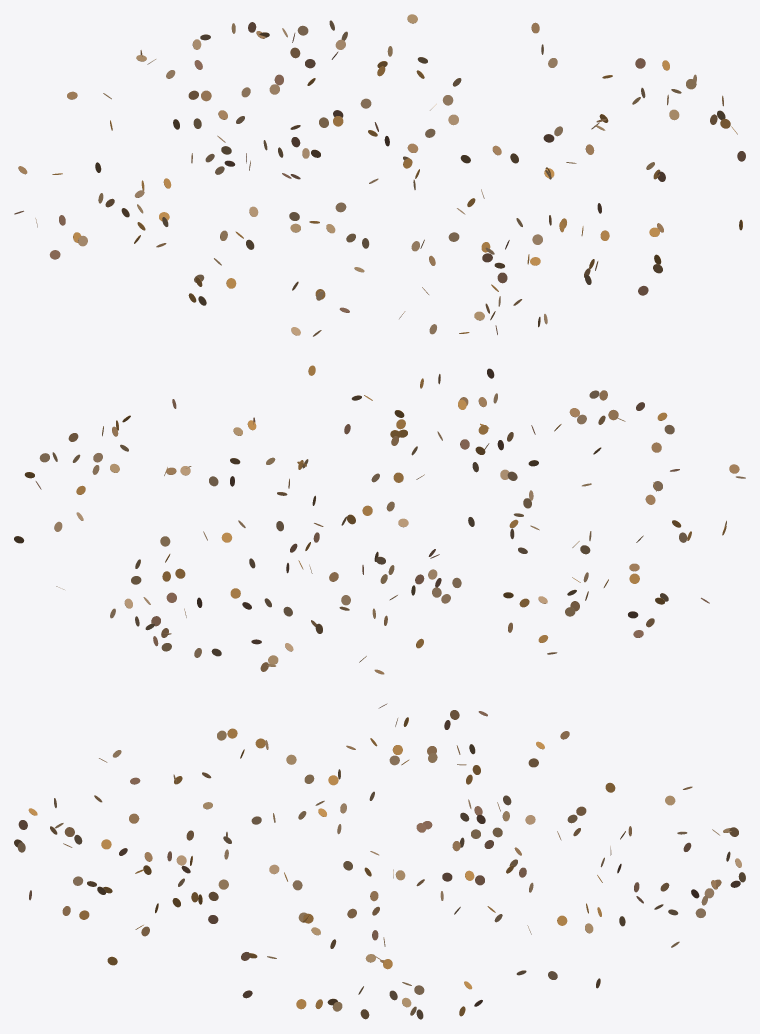
The model's file is choco_round3.glb.
3 renders of one model, top to bottom at view 1: azimuth 30°, elevation 25°; view 2: azimuth 150°, elevation 25°; view 3: azimuth 270°, elevation 25°, orthographic. The views are drawn at different scales.
Size of the model in its own units: 2.87 by 0.04 by 2.84.
